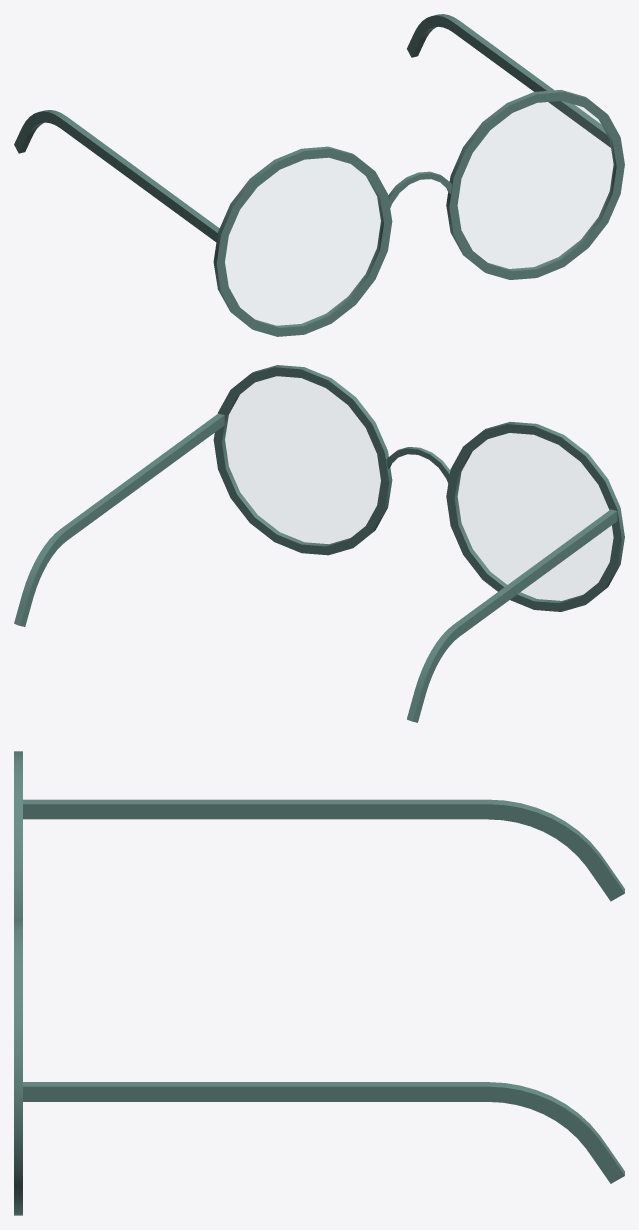
Rendered from Glasses.fbx.
The picture shows the model from 3 angles, top to bottom: view 1: azimuth 30°, elevation 25°; view 2: azimuth 150°, elevation 25°; view 3: azimuth 270°, elevation 25°; orthographic projection. The views are drawn at different scales.
Visible parts, largest first — view 1: Lenses, RightBar, LeftBar; view 2: Lenses, RightBar, LeftBar; view 3: RightBar, LeftBar, Lenses.
Boxes of the visible parts, <box> form: Lenses: <box>213,90,624,336</box>; RightBar: <box>14,110,219,241</box>; LeftBar: <box>407,14,610,147</box>; Lenses: <box>213,365,624,611</box>; RightBar: <box>407,509,617,722</box>; LeftBar: <box>14,413,224,626</box>; RightBar: <box>23,799,624,901</box>; LeftBar: <box>23,1082,624,1183</box>; Lenses: <box>14,751,22,1215</box>.
Size of the model in its own units: 2.44 by 1.05 by 2.15.
